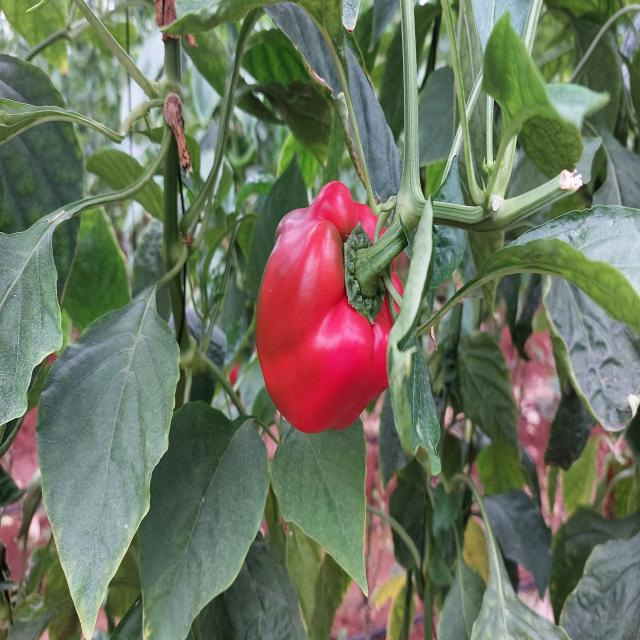Red-Ready-to-Harvest: (251, 186, 418, 459)
